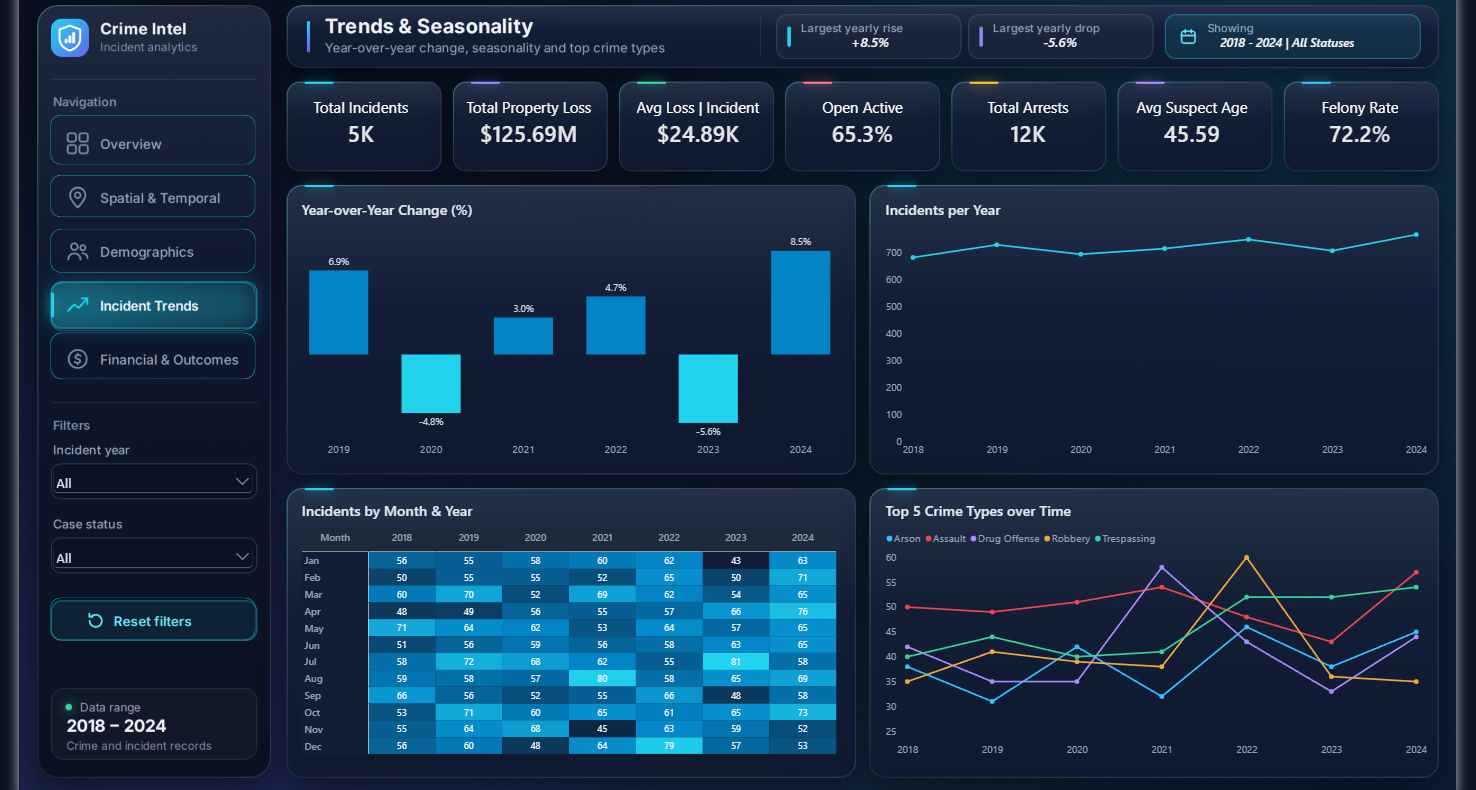

What the dashboard file says about the page in this screenshot:
{"tool":"powerbi","page":{"name":"Incident Trend Analysis ","canvas":[2560,1440],"ordinal":3},"visuals":[{"type":"slicer","fields":{"Values":["crime_incidents_cleaned.incident_year"]},"box":[56.4,851.5,365.6,66.3],"z":0},{"type":"slicer","fields":{"Values":["crime_incidents_cleaned.case_status"]},"box":[56.4,984.1,365.6,63.8],"z":1000},{"type":"pivotTable","title":"Incidents by Month & Year","fields":{"Columns":["DateTable.Year"],"Rows":["DateTable.Month Name"],"Values":["Measures (2).Total Incidents"]},"box":[488.3,895.7,986.5,490.8],"z":2000},{"type":"lineChart","title":"Incidents per Year","fields":{"Category":["DateTable.Year"],"Y":["Measures (2).Total Incidents"]},"box":[1526.4,358.3,996.3,493.3],"z":3000},{"type":"clusteredColumnChart","title":"Year-over-Year Change (%)","fields":{"Category":["DateTable.Year"],"Y":["Measures (2).YoY Change %"]},"box":[488.3,358.3,986.5,493.3],"z":4000},{"type":"lineChart","title":"Top 5 Crime Types over Time","fields":{"Category":["DateTable.Year"],"Series":["crime_incidents_cleaned.crime_type"],"Y":["Measures (2).Total Incidents"]},"box":[1526.4,895.7,996.3,490.8],"z":5000},{"type":"shape","box":[56.4,223.3,365.6,88.3],"z":6000},{"type":"shape","box":[56.4,424.5,365.6,78.5],"z":7000},{"type":"shape","box":[56.4,520.2,365.6,85.9],"z":8000},{"type":"shape","box":[56.4,611,365.6,83.4],"z":9000},{"type":"shape","box":[56.4,1082.8,365.6,76.1],"z":10000},{"type":"shape","box":[56.4,330.5,365.4,75.2],"z":11000},{"type":"cardVisual","fields":{"Data":["Measures (2).Total Incidents"]},"box":[485.9,176.7,247.9,135],"z":12000},{"type":"cardVisual","fields":{"Data":["Measures (2).Total Property Loss"]},"box":[777.9,176.7,262.6,135],"z":13000},{"type":"cardVisual","fields":{"Data":["Measures (2).Avg Loss Per Incident"]},"box":[1082.2,176.7,255.2,135],"z":14000},{"type":"cardVisual","fields":{"Data":["Measures (2).Total Arrests"]},"box":[1668.7,176.7,255.2,135],"z":15000},{"type":"cardVisual","fields":{"Data":["Measures (2).Open Active Pct"]},"box":[1371.8,176.7,262.6,135],"z":16000},{"type":"cardVisual","fields":{"Data":["Measures (2).Avg Suspect Age"]},"box":[1955.8,176.7,269.9,135],"z":17000},{"type":"cardVisual","fields":{"Data":["Measures (2).Felony Rate Pct"]},"box":[2255.2,176.7,267.5,135],"z":18000},{"type":"cardVisual","fields":{"Data":["Measures (2).Trends Fact 1"]},"box":[1358,54,316.6,73.6],"z":18001},{"type":"cardVisual","fields":{"Data":["Measures (2).Trends Fact 2"]},"box":[1696,54,316.6,73.6],"z":18002},{"type":"cardVisual","fields":{"Data":["Measures (2).Header Showing"]},"box":[2027,63.8,466.3,56.4],"z":18003}]}

Visuals, with their boxes on the page's 2560x1440 design canvas (x1, y1, x2, y2). These are canvas units, not pixel positions in the 1476x790 screenshot, which may show the page scaled, cropped or inside an application window:
slicer - crime_incidents_cleaned.incident_year: {"x1": 56, "y1": 852, "x2": 422, "y2": 918}
slicer - crime_incidents_cleaned.case_status: {"x1": 56, "y1": 984, "x2": 422, "y2": 1048}
"Incidents by Month & Year" pivotTable: {"x1": 488, "y1": 896, "x2": 1475, "y2": 1386}
"Incidents per Year" lineChart: {"x1": 1526, "y1": 358, "x2": 2523, "y2": 852}
"Year-over-Year Change (%)" clusteredColumnChart: {"x1": 488, "y1": 358, "x2": 1475, "y2": 852}
"Top 5 Crime Types over Time" lineChart: {"x1": 1526, "y1": 896, "x2": 2523, "y2": 1386}
shape: {"x1": 56, "y1": 223, "x2": 422, "y2": 312}
shape: {"x1": 56, "y1": 424, "x2": 422, "y2": 503}
shape: {"x1": 56, "y1": 520, "x2": 422, "y2": 606}
shape: {"x1": 56, "y1": 611, "x2": 422, "y2": 694}
shape: {"x1": 56, "y1": 1083, "x2": 422, "y2": 1159}
shape: {"x1": 56, "y1": 330, "x2": 422, "y2": 406}
cardVisual - Measures (2).Total Incidents: {"x1": 486, "y1": 177, "x2": 734, "y2": 312}
cardVisual - Measures (2).Total Property Loss: {"x1": 778, "y1": 177, "x2": 1040, "y2": 312}
cardVisual - Measures (2).Avg Loss Per Incident: {"x1": 1082, "y1": 177, "x2": 1337, "y2": 312}
cardVisual - Measures (2).Total Arrests: {"x1": 1669, "y1": 177, "x2": 1924, "y2": 312}
cardVisual - Measures (2).Open Active Pct: {"x1": 1372, "y1": 177, "x2": 1634, "y2": 312}
cardVisual - Measures (2).Avg Suspect Age: {"x1": 1956, "y1": 177, "x2": 2226, "y2": 312}
cardVisual - Measures (2).Felony Rate Pct: {"x1": 2255, "y1": 177, "x2": 2523, "y2": 312}
cardVisual - Measures (2).Trends Fact 1: {"x1": 1358, "y1": 54, "x2": 1675, "y2": 128}
cardVisual - Measures (2).Trends Fact 2: {"x1": 1696, "y1": 54, "x2": 2013, "y2": 128}
cardVisual - Measures (2).Header Showing: {"x1": 2027, "y1": 64, "x2": 2493, "y2": 120}
